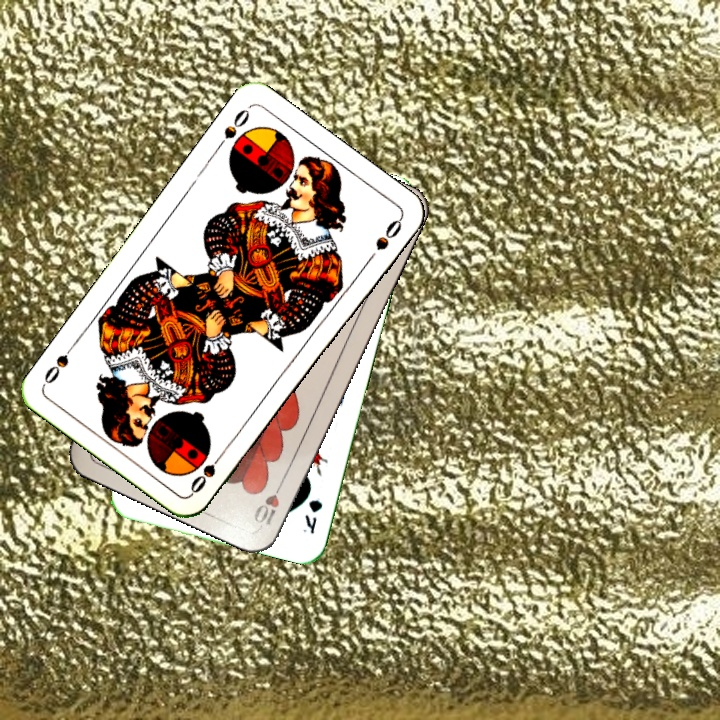GK: (298, 495, 325, 537)
H10: (249, 474, 287, 531)
SO: (211, 102, 253, 154), (186, 445, 228, 496)
